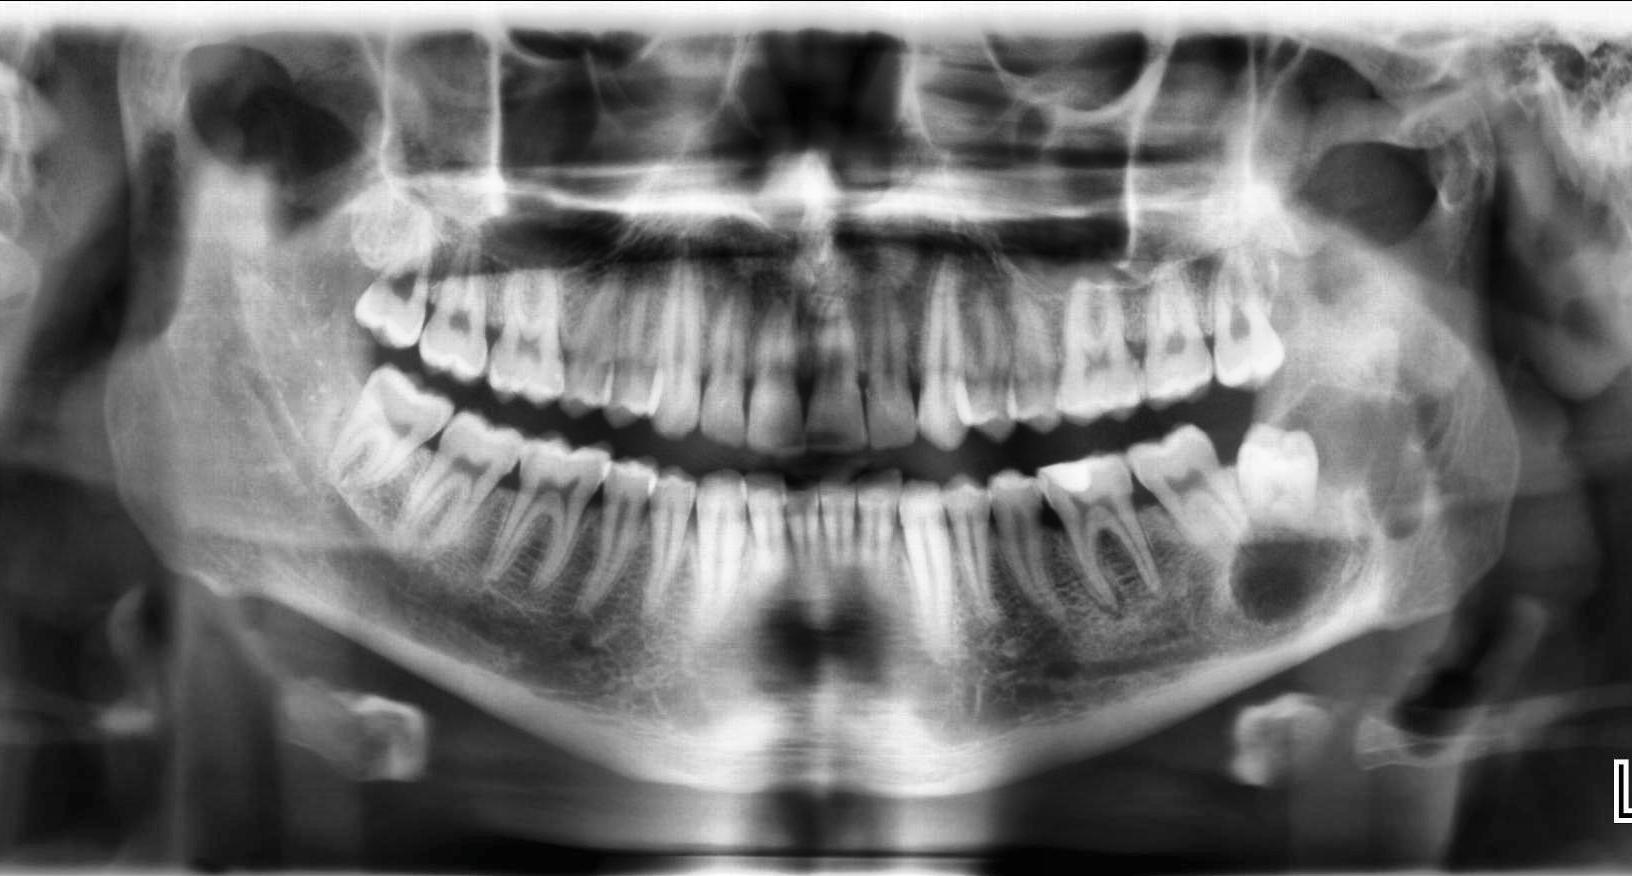keratokist: (1227, 381, 1457, 630)
